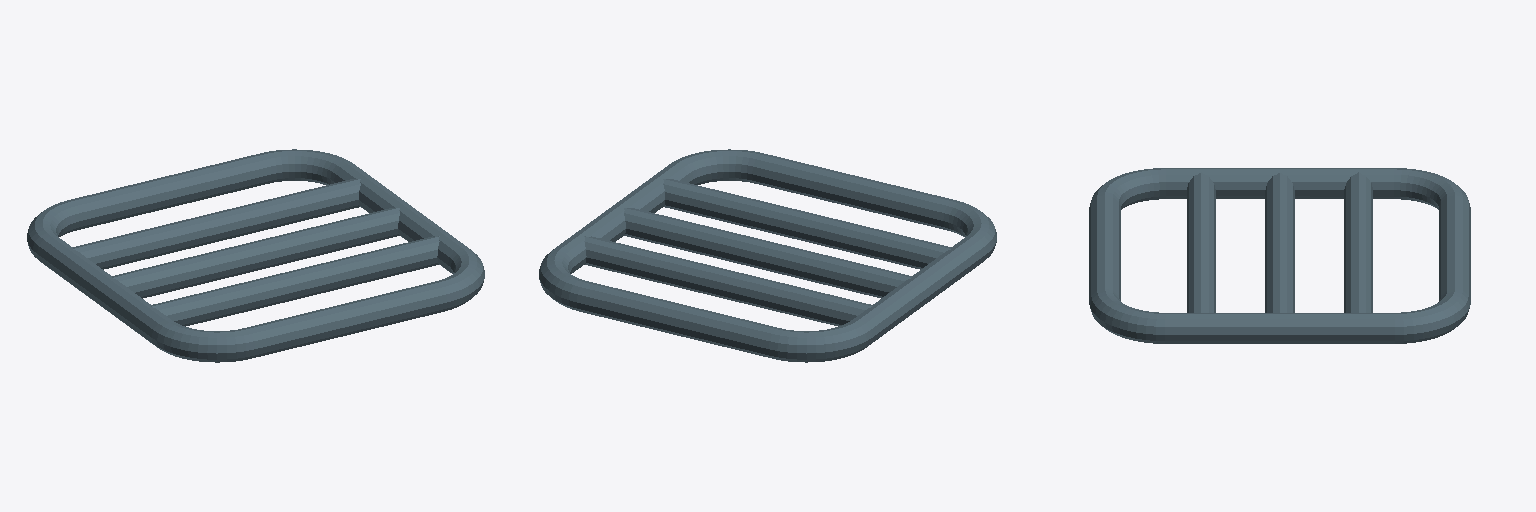
File: barrierFloor.obj
3 views of the same model, side by side, from view 1: azimuth 30°, elevation 25°; view 2: azimuth 150°, elevation 25°; view 3: azimuth 270°, elevation 25° (orthographic).
Visible parts, largest first — view 1: barrierFloor_Cube.506; view 2: barrierFloor_Cube.506; view 3: barrierFloor_Cube.506.
Part boxes in pixels (x1,y1,x2,y2): barrierFloor_Cube.506: (27, 149, 484, 362); barrierFloor_Cube.506: (539, 149, 996, 362); barrierFloor_Cube.506: (1089, 168, 1470, 343).
Size of the model in its own units: 1.96 by 0.165 by 2.